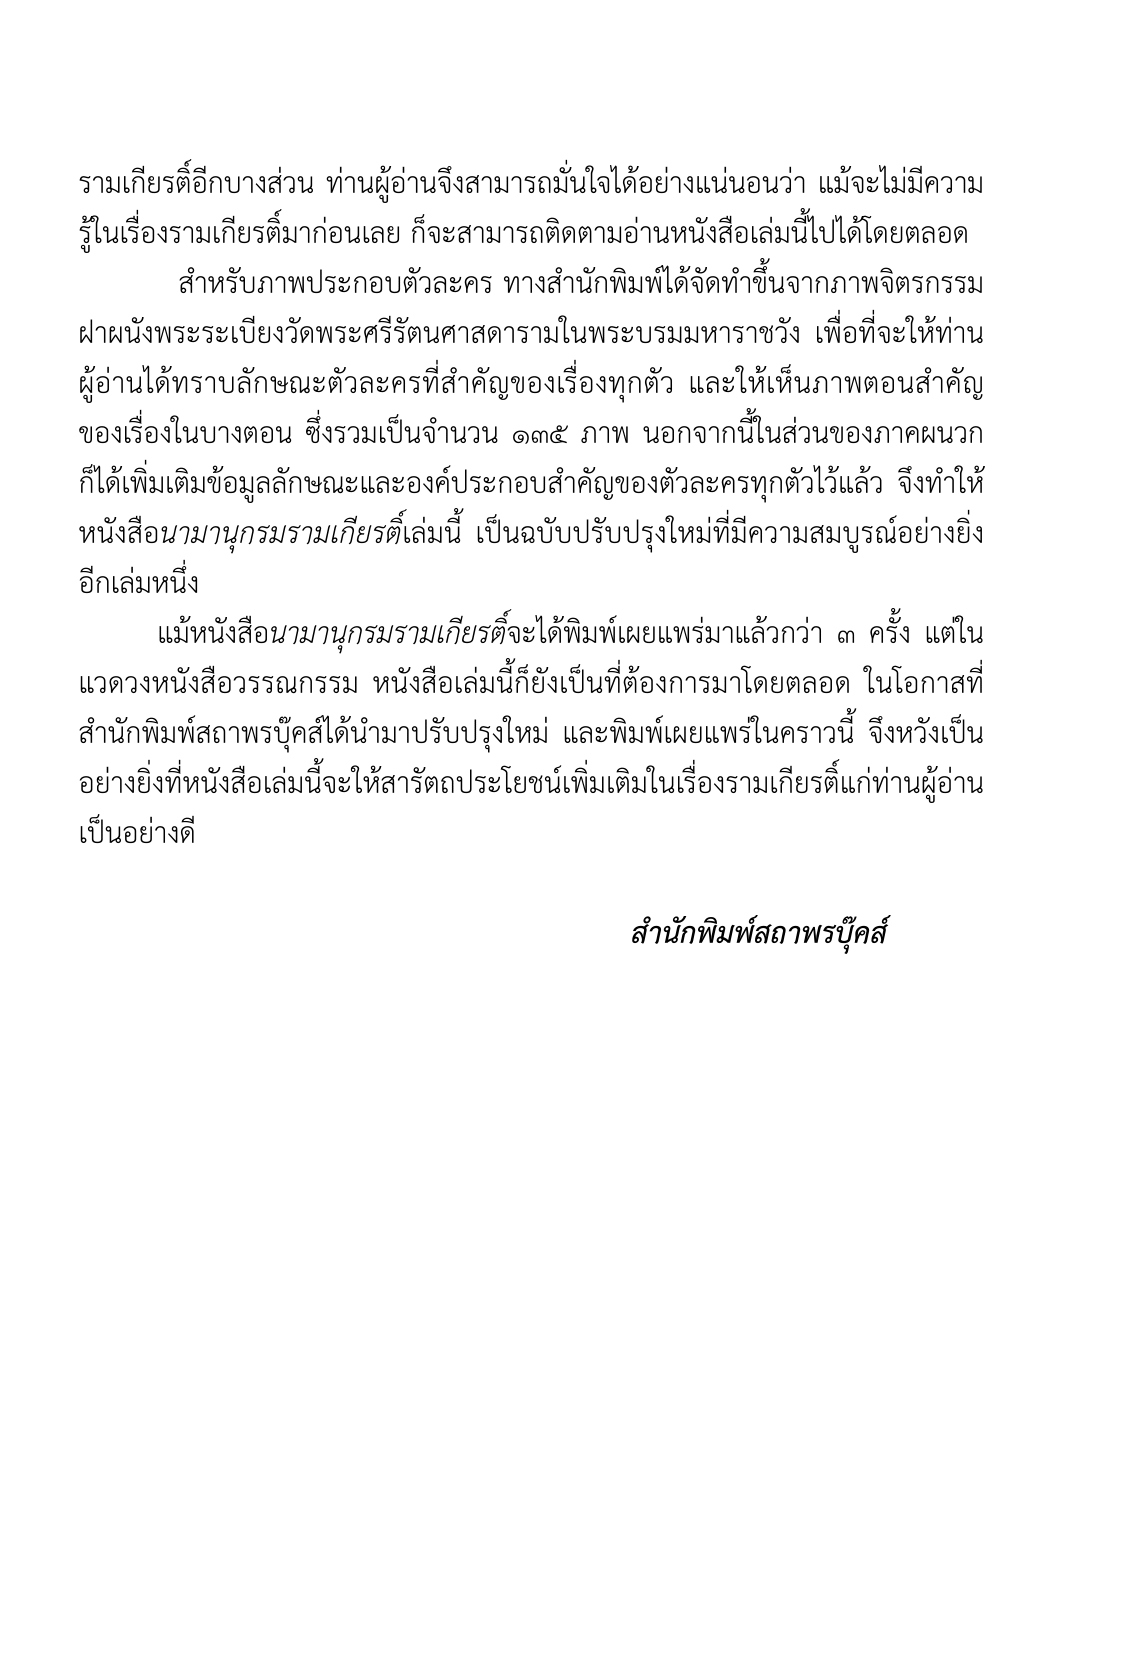thai: (73, 256, 987, 600), (74, 607, 987, 852), (75, 152, 985, 256), (626, 909, 893, 967)
